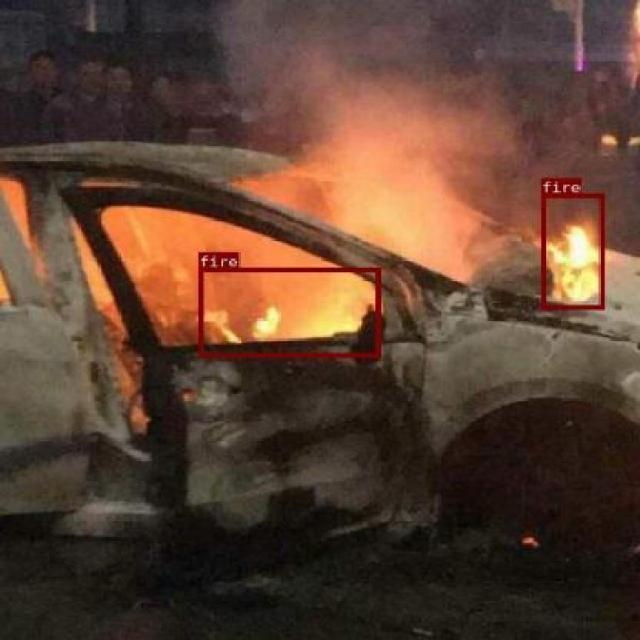fire: (198, 267, 379, 356), (540, 194, 603, 308)
